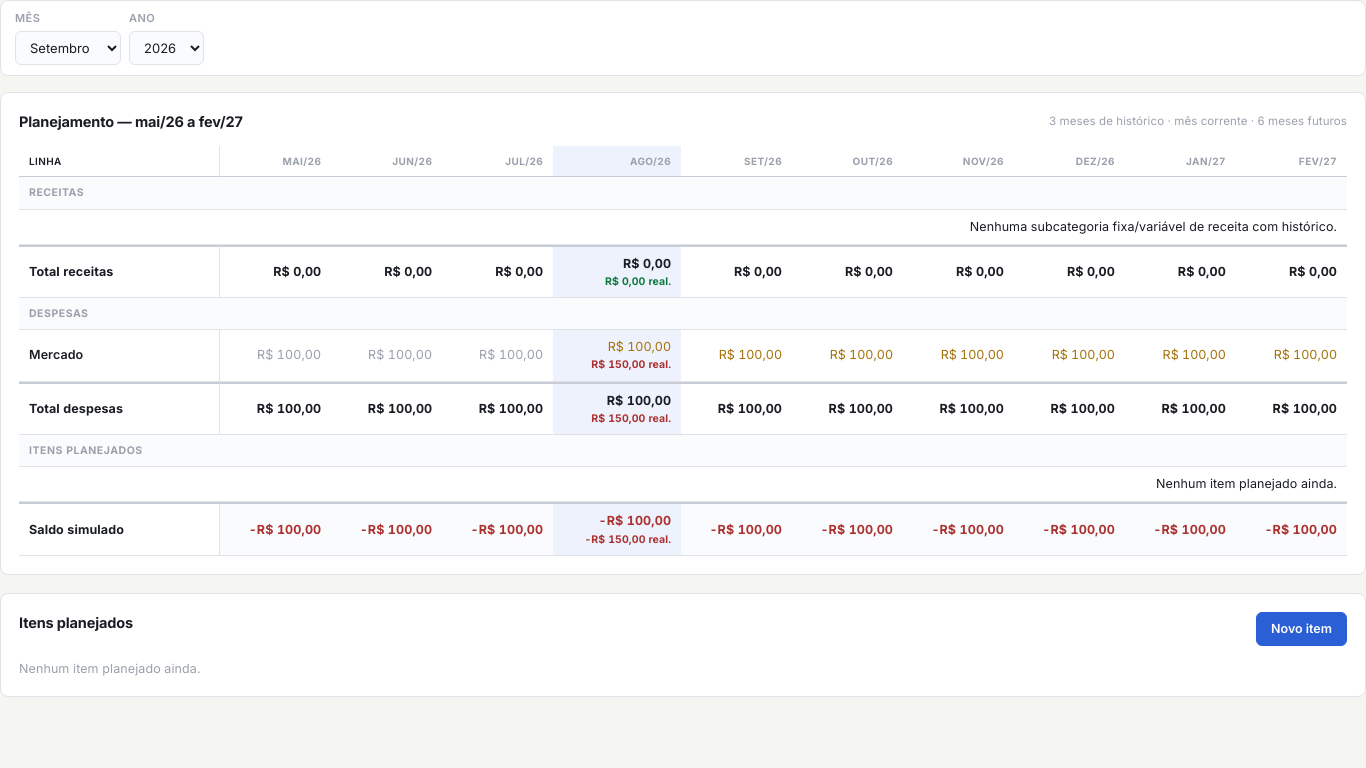
Test case: PlanejamentoPage › shows a propagation hint when editing a still-suggested cell, not when editing a confirmed one
Expected: the text "Mercado" is shown, x1=19 y1=330 x2=220 y2=382
Step 1. Click the 7th button "R$ 100,00" → (1305, 356), box x1=1274 y1=346 x2=1337 y2=365
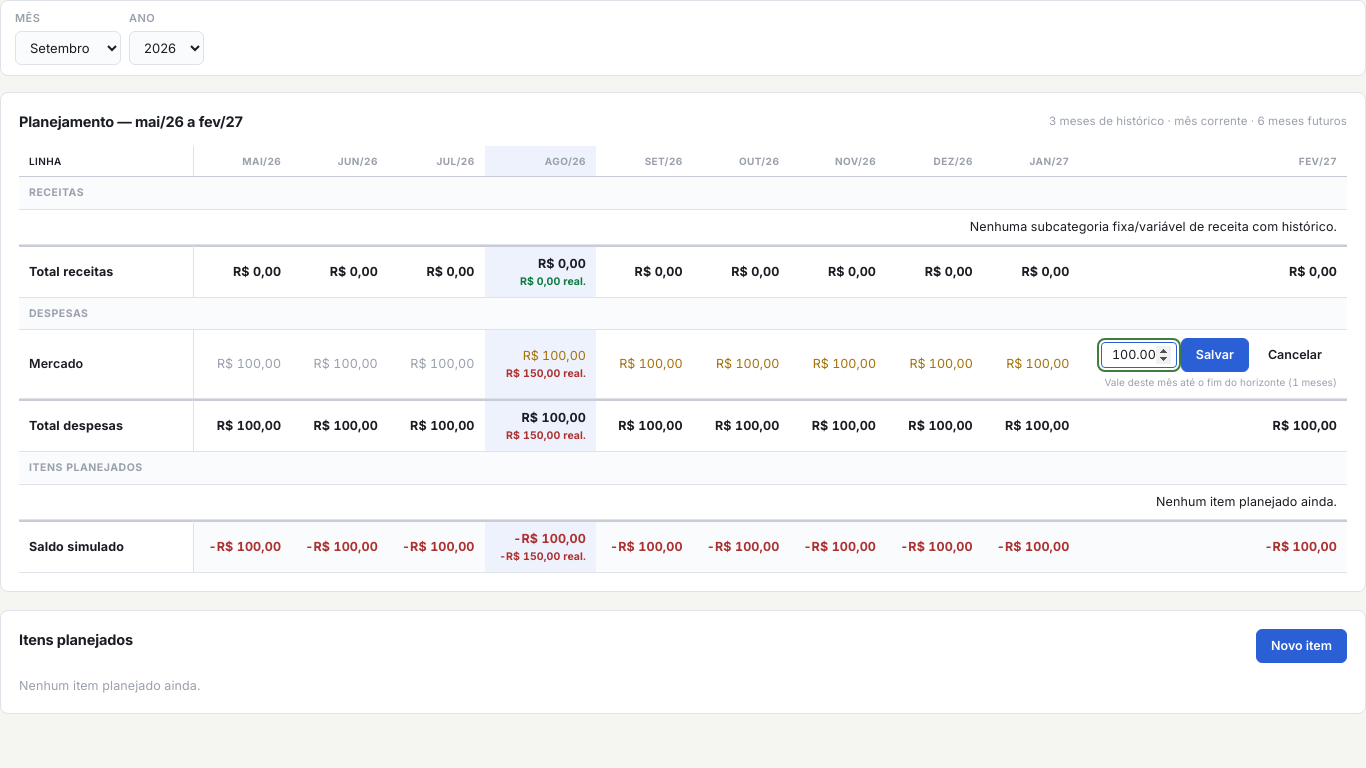
Expected: the text "Vale deste mês até o fim do horizonte (1 meses)" is shown, x1=1090 y1=376 x2=1337 y2=390
